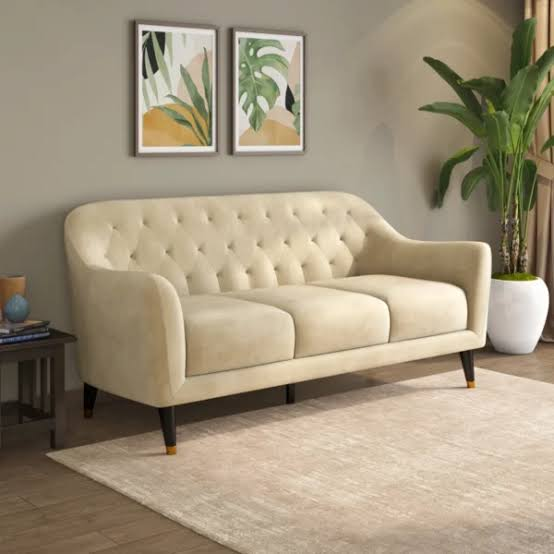3seatersofa: (64, 192, 490, 454)
backrest: (72, 192, 382, 292)
base: (171, 328, 481, 397)
leftarmrest: (364, 219, 490, 348)
leg: (158, 406, 176, 454), (460, 351, 474, 387), (84, 384, 97, 417), (286, 385, 294, 403)
rightarmrest: (70, 259, 186, 404)
seat: (182, 275, 467, 374)
